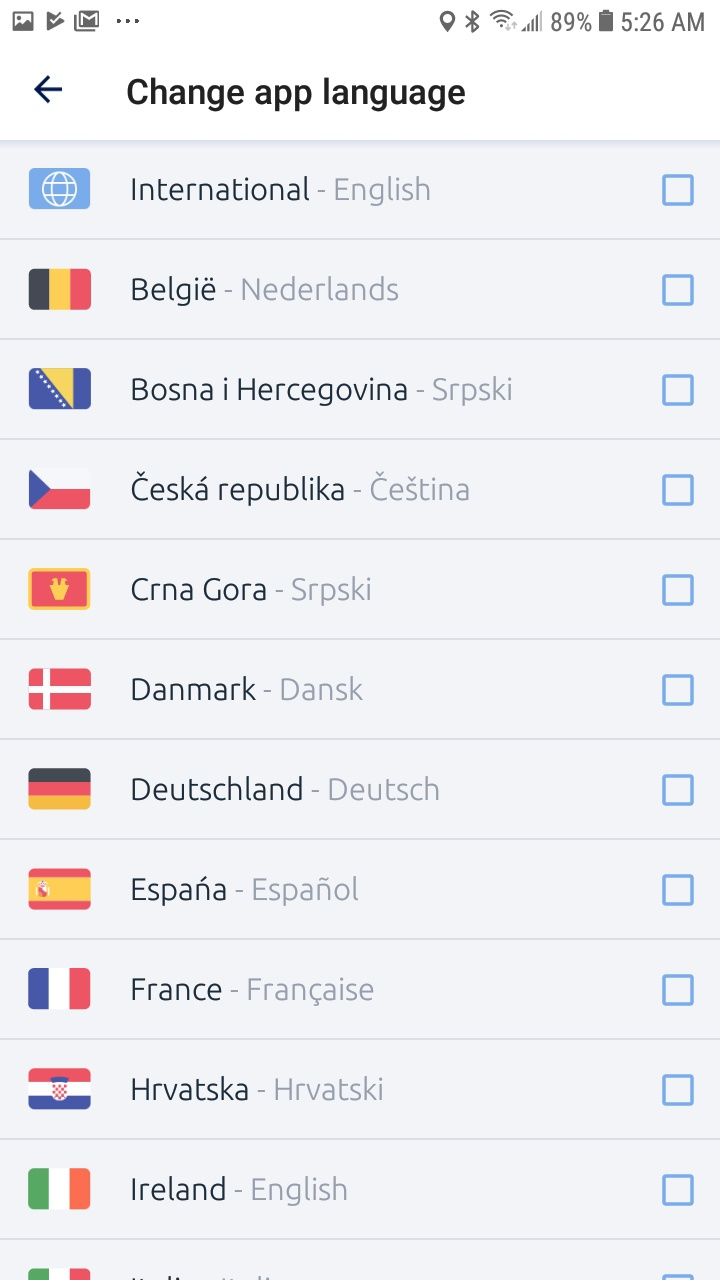CheckedTextView: (131, 471, 694, 507), (131, 1173, 694, 1207), (132, 174, 694, 207), (132, 274, 694, 307), (132, 374, 694, 407), (132, 574, 694, 607), (132, 674, 694, 707), (132, 774, 694, 807), (132, 874, 694, 906), (132, 974, 694, 1006), (132, 1074, 694, 1106)
Icon: (35, 76, 64, 105)
Image: (28, 868, 92, 911), (28, 1067, 92, 1110), (28, 568, 91, 611), (29, 668, 92, 711), (29, 768, 92, 811), (28, 967, 91, 1010), (28, 1167, 91, 1210), (29, 269, 92, 311), (29, 368, 92, 410), (29, 168, 91, 210), (29, 469, 91, 510), (29, 1267, 92, 1280)
Text: (128, 77, 466, 113), (132, 471, 470, 507), (132, 376, 512, 407), (132, 177, 430, 207), (132, 276, 399, 307), (132, 776, 439, 802), (132, 576, 371, 607), (132, 875, 359, 907), (132, 977, 374, 1007), (132, 1176, 348, 1207), (132, 1075, 383, 1101), (132, 676, 364, 702)
UpperTaskBar: (1, 1, 720, 33)
